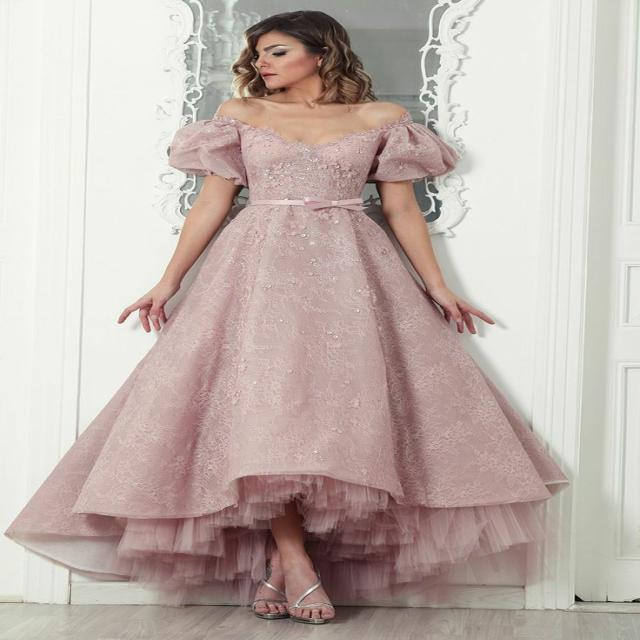female-dress: (69, 108, 573, 600)
